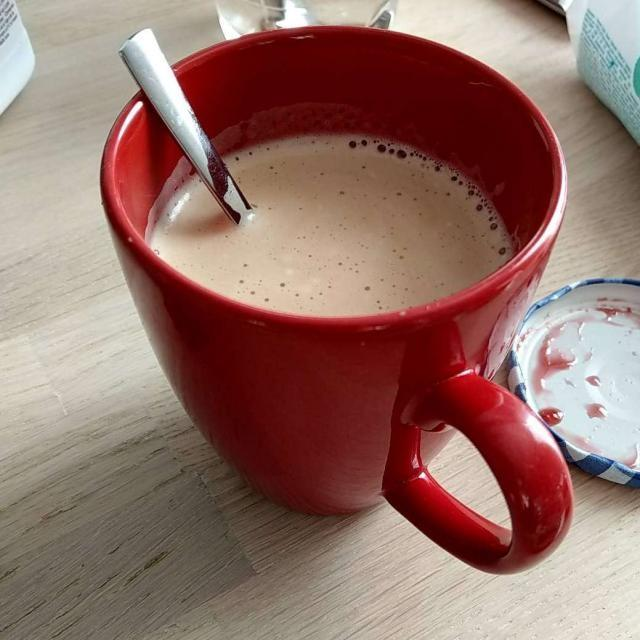coffee: (153, 122, 510, 308)
